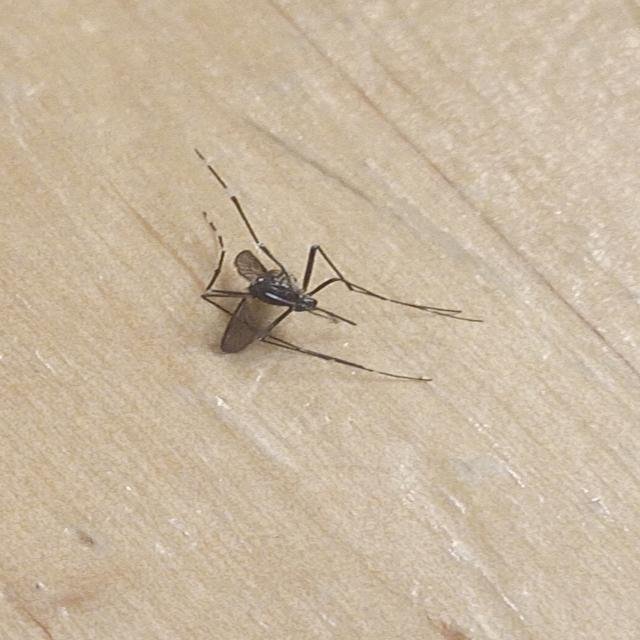albopictus: (152, 134, 478, 392)
